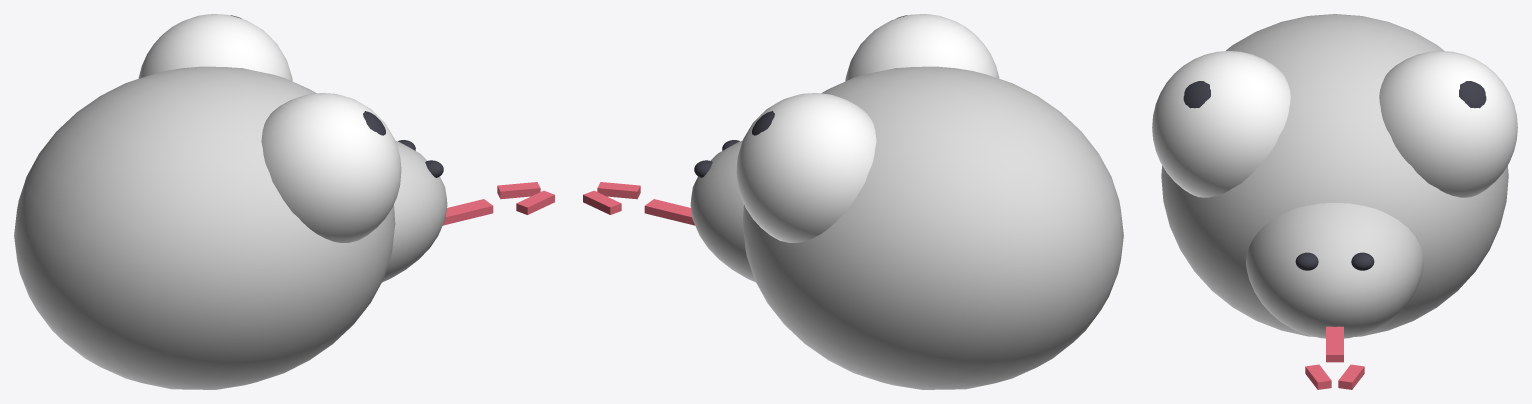
Rendered from snake_head.glb.
3 renders of one model, left to right at view 1: azimuth 30°, elevation 25°; view 2: azimuth 150°, elevation 25°; view 3: azimuth 270°, elevation 25°, orthographic.
Parts seen in each view (by area): view 1: SnakeHead; view 2: SnakeHead; view 3: SnakeHead.
Boxes of the visible parts, bbox=[...] form: SnakeHead: bbox=[14, 14, 554, 389]; SnakeHead: bbox=[583, 14, 1123, 389]; SnakeHead: bbox=[1152, 14, 1517, 389].
Size of the model in its own units: 3.17 by 1.75 by 2.
